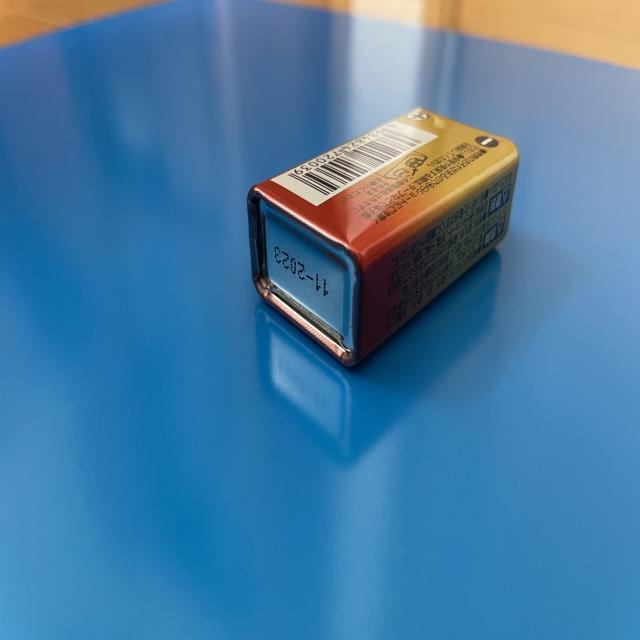9V: (247, 106, 520, 367)
